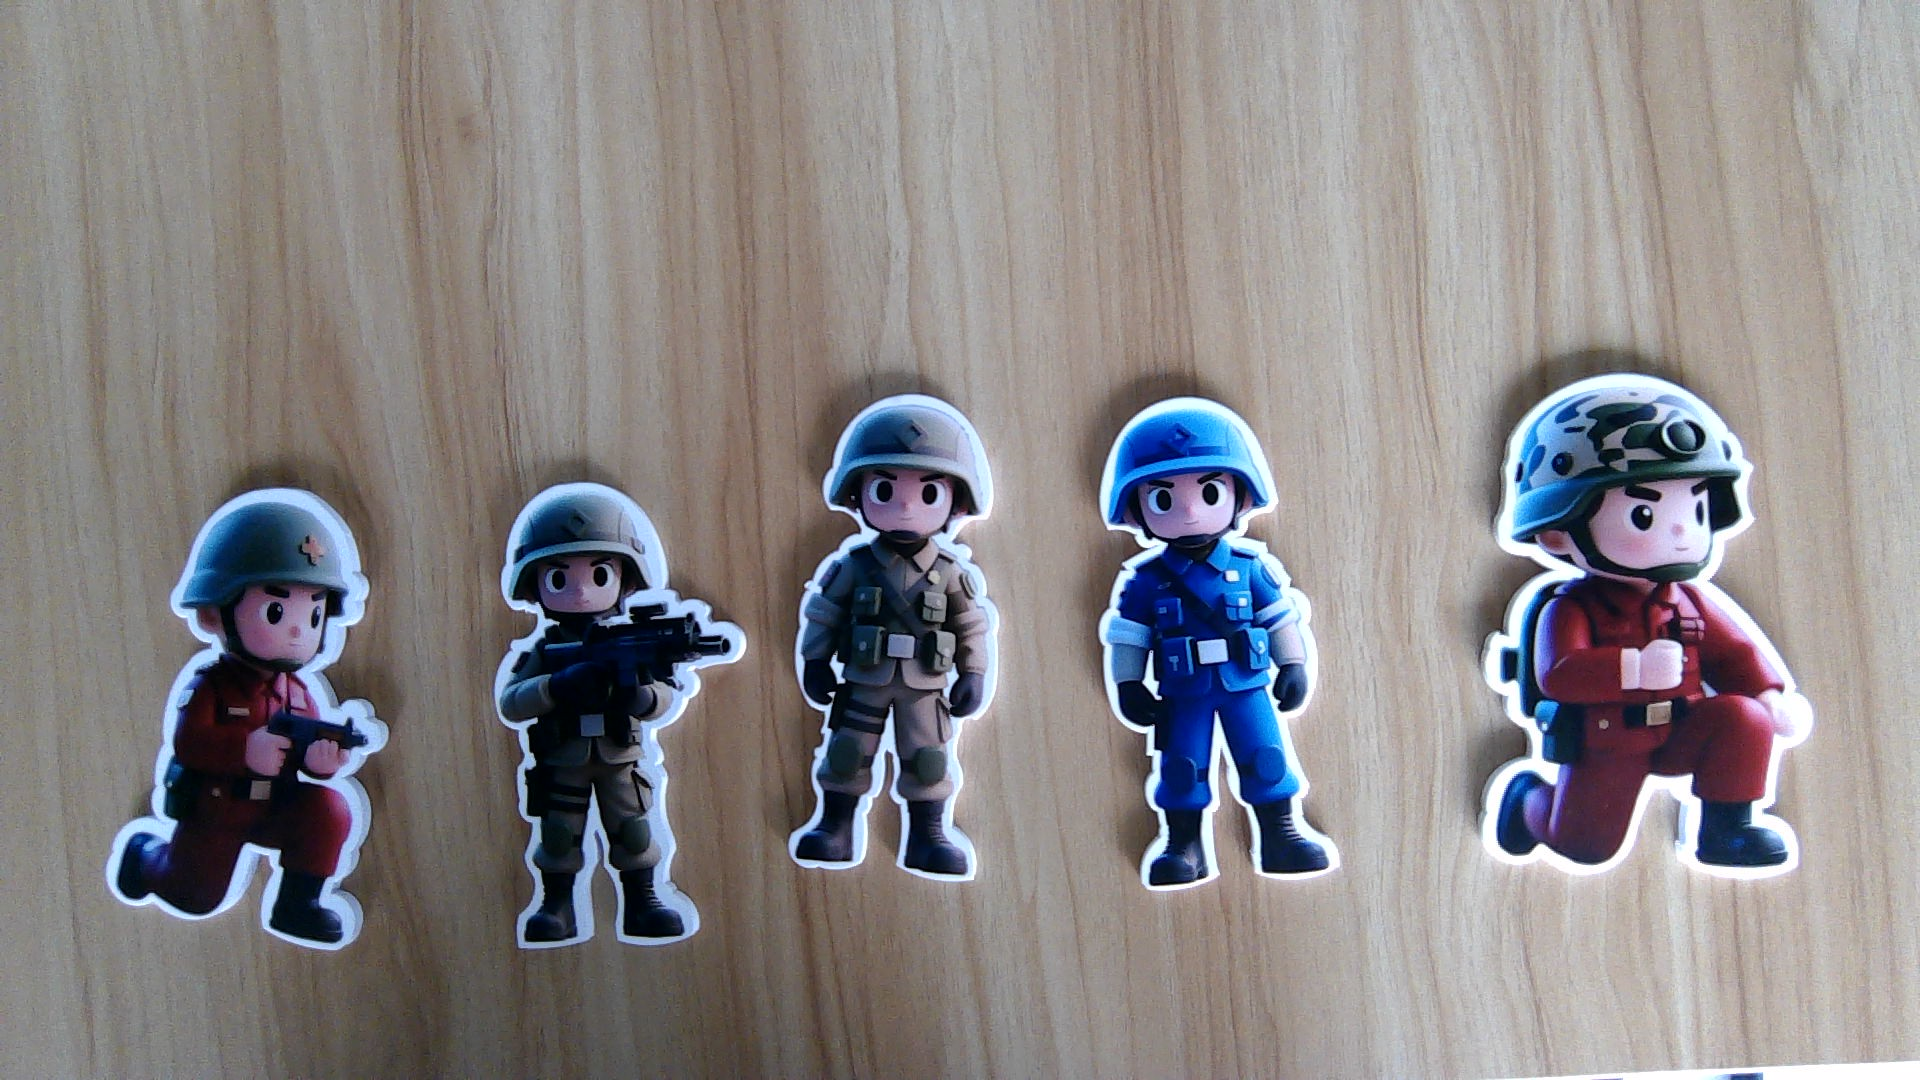友军: (491, 618, 731, 951), (785, 527, 1004, 882)
敌人1: (1476, 574, 1822, 882), (107, 675, 389, 948)
敌人2: (1097, 546, 1340, 885)
